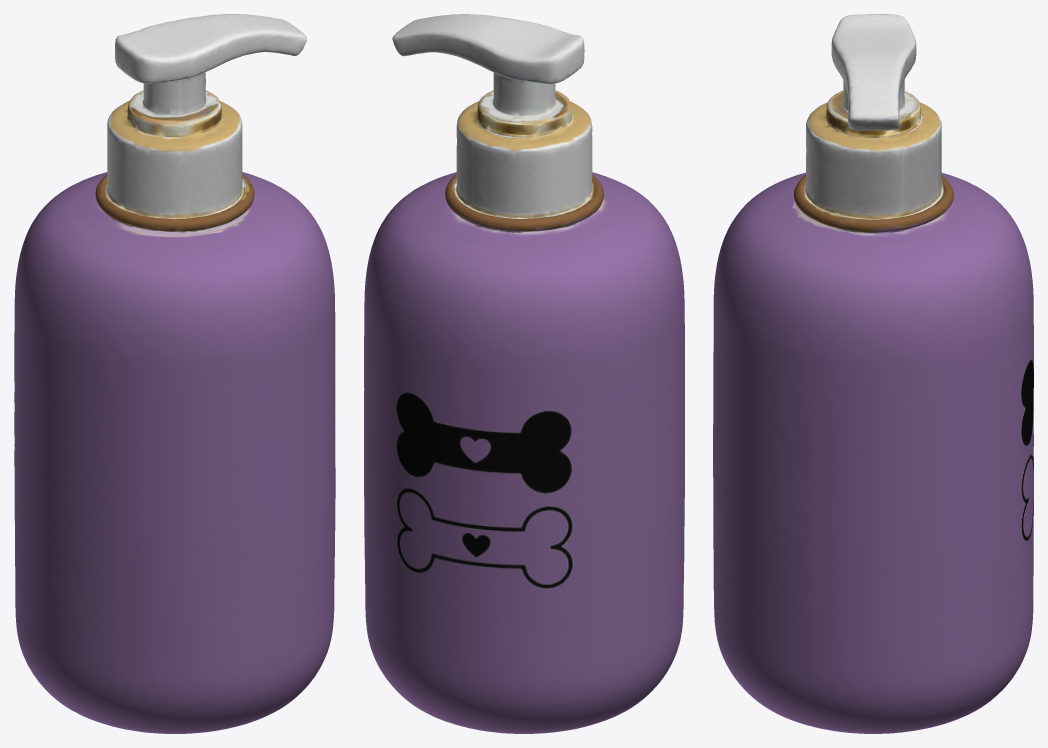
File: P_PremiumShampoo_h32.fbx
The picture shows the model from 3 angles, left to right: view 1: azimuth 30°, elevation 25°; view 2: azimuth 150°, elevation 25°; view 3: azimuth 270°, elevation 25°; orthographic projection.
Parts seen in each view (by area): view 1: texture_mapping; view 2: texture_mapping; view 3: texture_mapping.
Part boxes in pixels (left/top/right/bottom): texture_mapping: left=14, top=14, right=335, bottom=733; texture_mapping: left=364, top=14, right=684, bottom=733; texture_mapping: left=713, top=14, right=1033, bottom=733.
Bounding box in the file's own units: 0.4442 × 0.4445 × 0.9973.
Materials: 1 (1 with a texture image).
